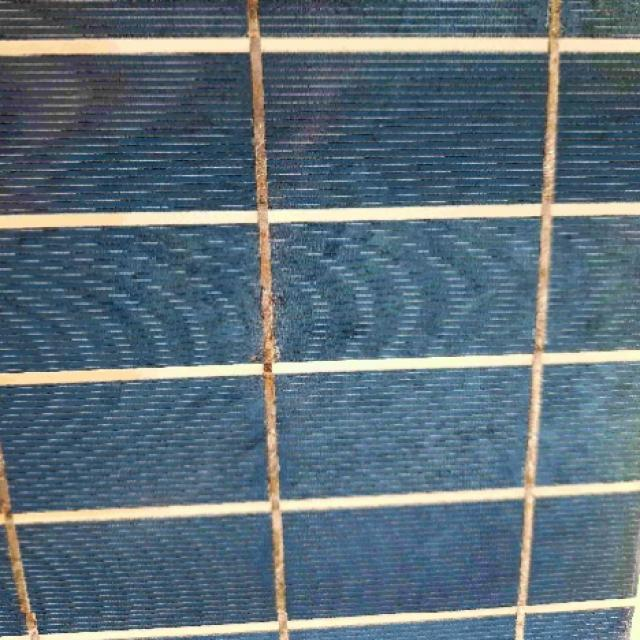Clean: (0, 0, 640, 613)
